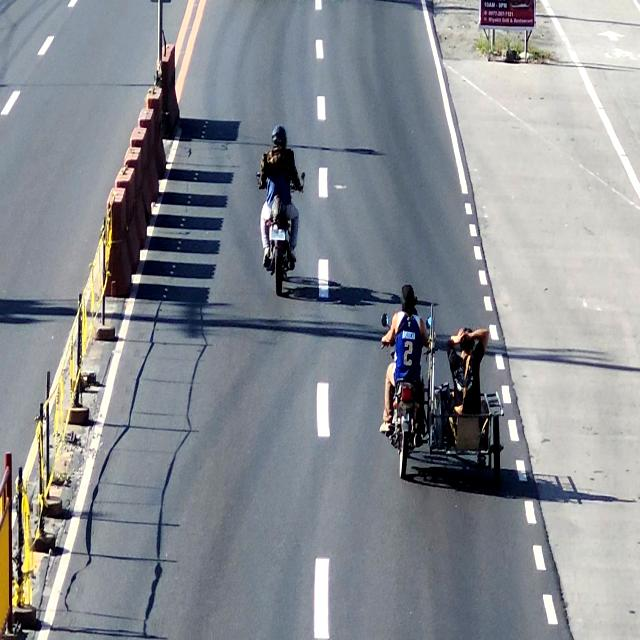License-Plate: (270, 222, 287, 244)
Motorcycle: (258, 125, 302, 302)
Tricycle: (379, 281, 505, 482)
